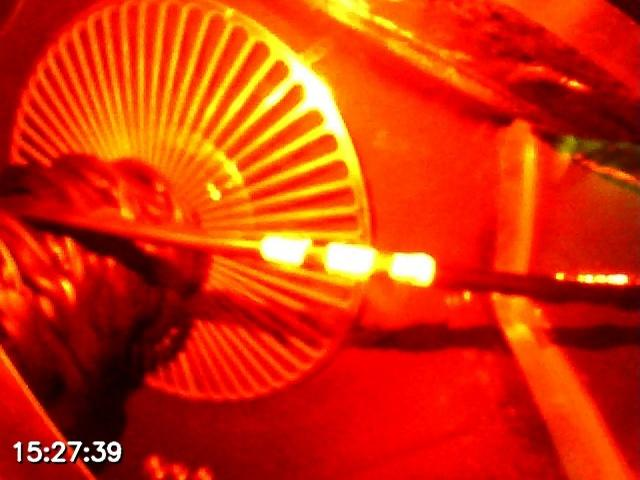white-dots: (259, 233, 437, 288)
